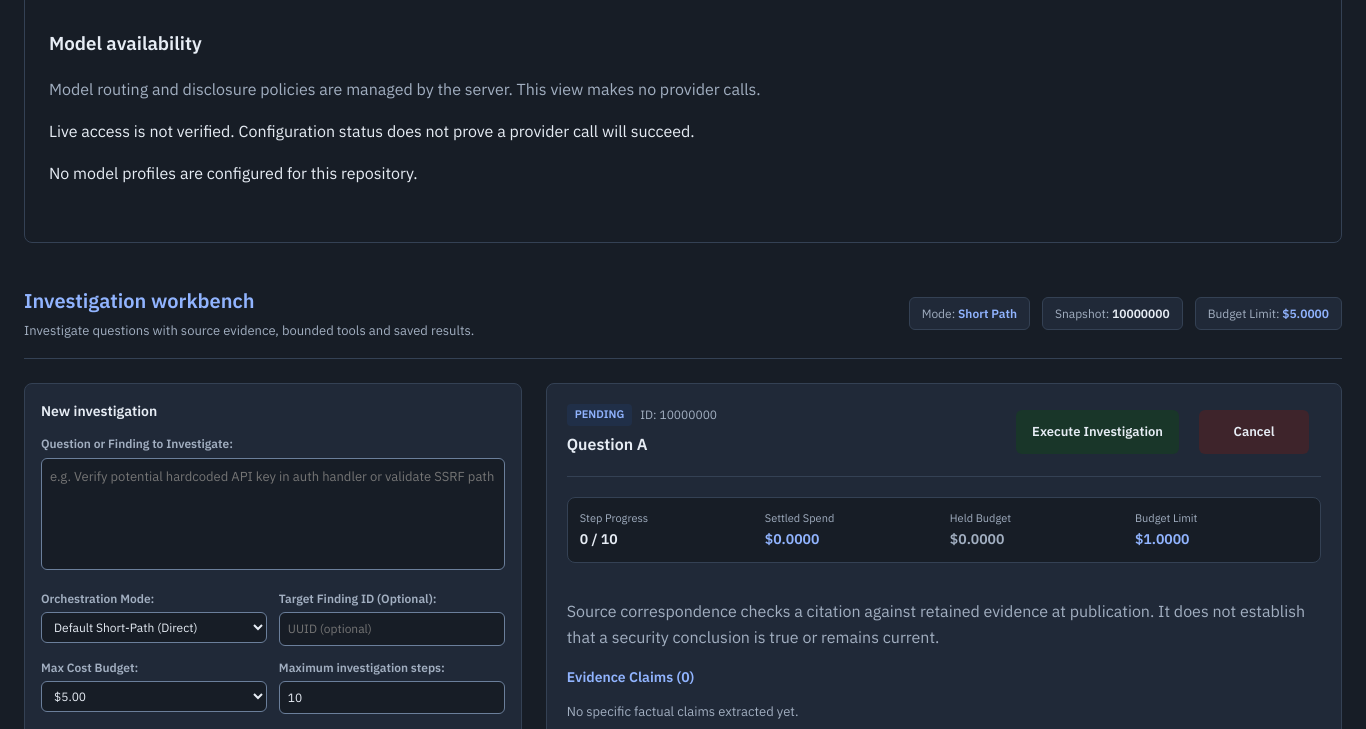
keeps a late execution response associated with its submitted investigation
The width and height of the screenshot is (1366, 729).
Expected: the heading "Question A" is shown, [567,434,648,454]
Step 1. Click the button "Execute Investigation" → (1098, 432), box [1016,410,1179,454]
(page scrolled)
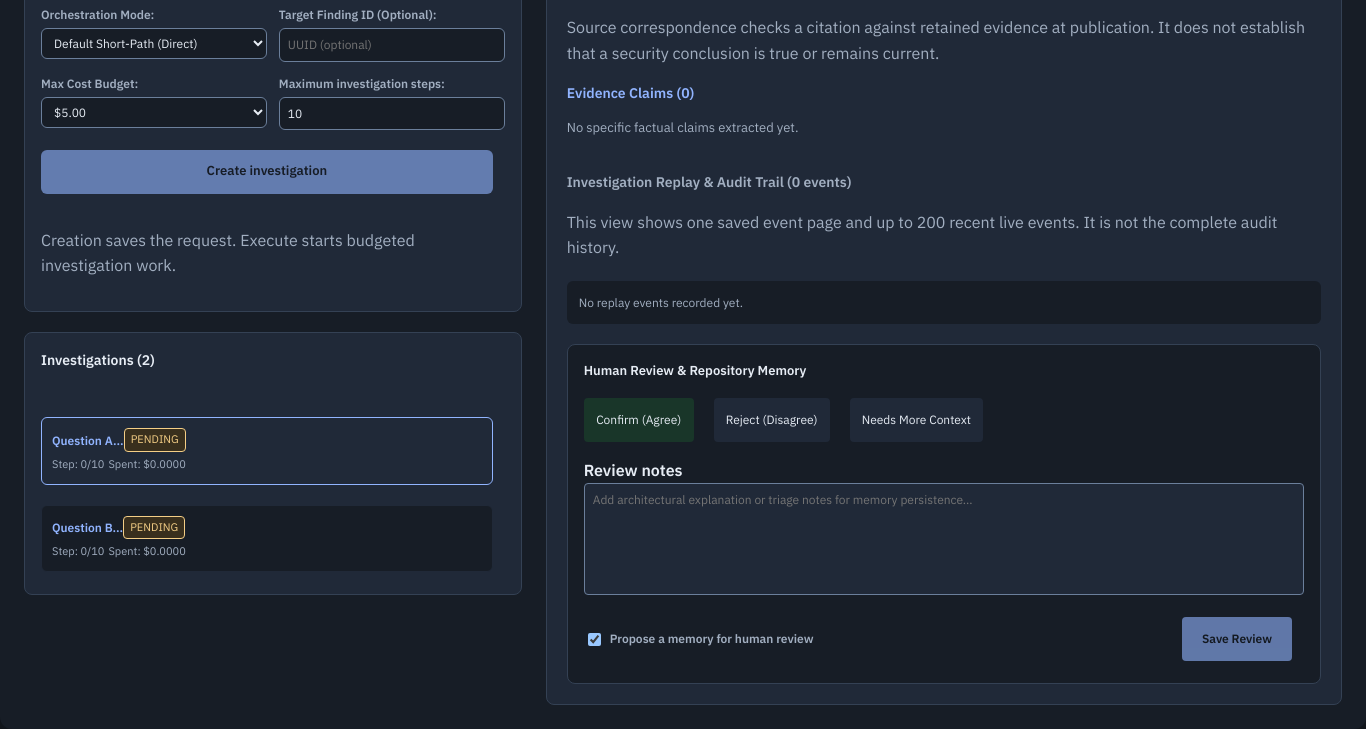
Step 2. Click the button "Question B... PENDING Step: 0/10 Spent: $0.0000" → (82, 527), box [41,505,493,572]
(page scrolled)
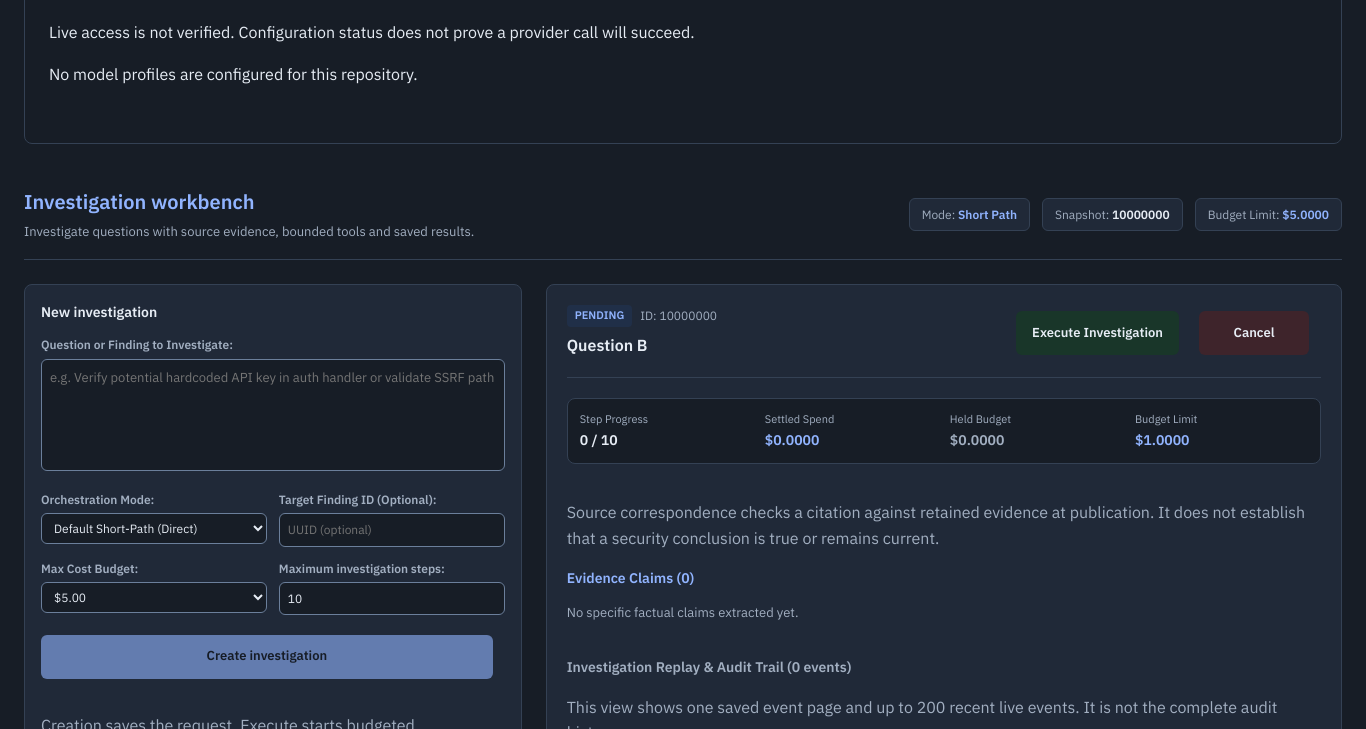
Expected: the heading "Question B" is shown, [567,334,648,354]
